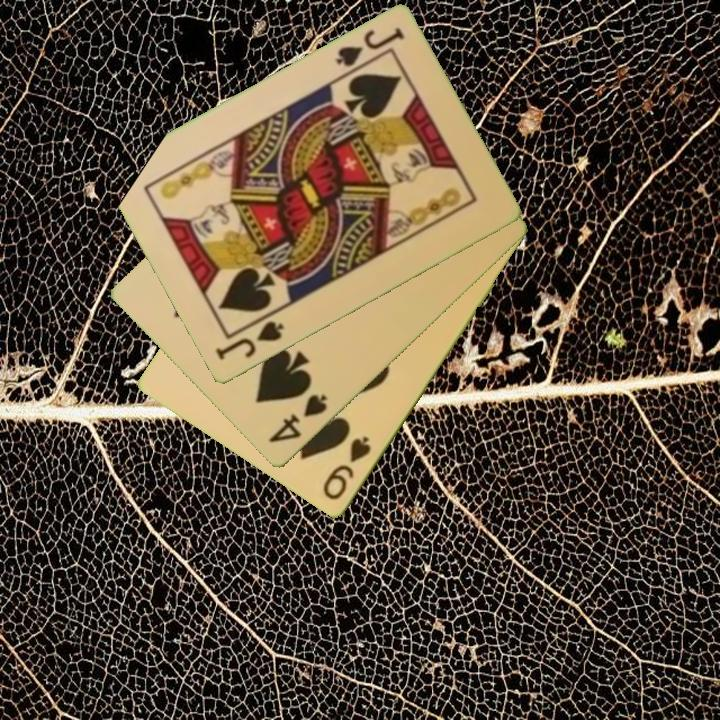4s: (264, 391, 330, 447)
9s: (319, 433, 374, 504)
Js: (332, 24, 407, 79), (211, 317, 287, 364)
